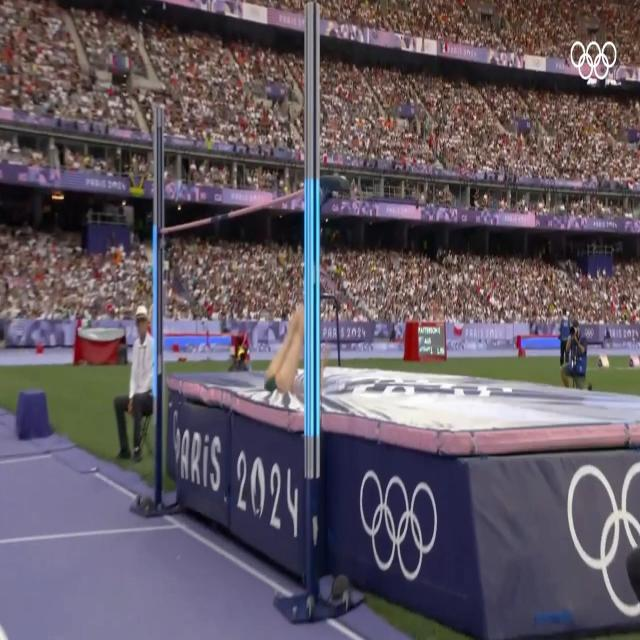land: (264, 295, 322, 395)
